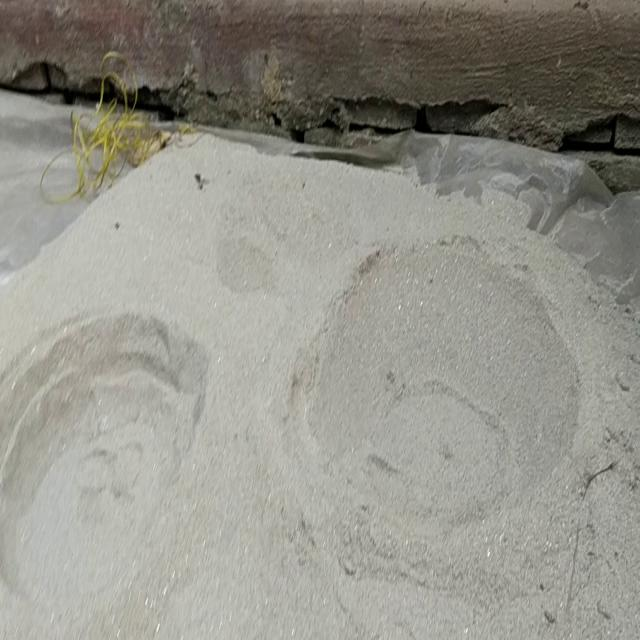C20: (288, 238, 578, 596), (0, 316, 205, 593)
